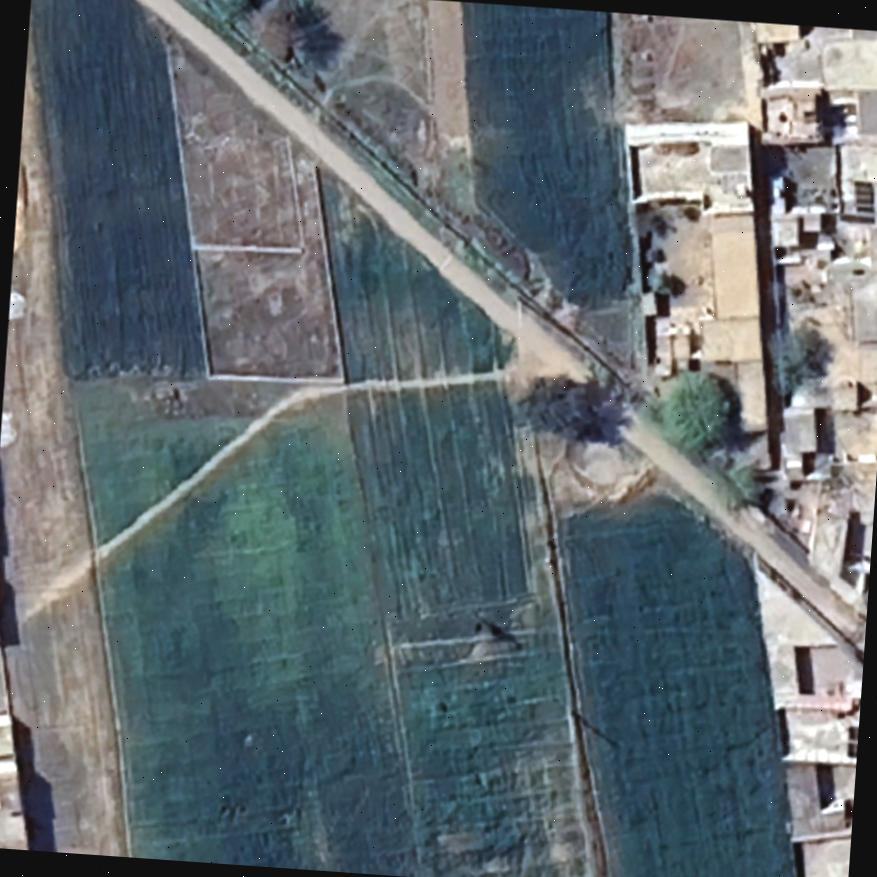Solarpanel: (844, 176, 877, 224), (844, 721, 858, 761)
